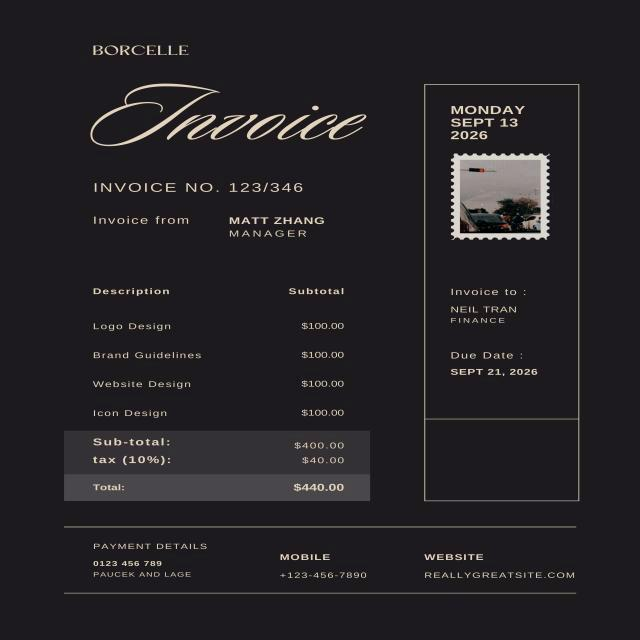paragraph: (90, 77, 368, 151), (81, 435, 359, 502), (447, 281, 553, 381), (88, 207, 328, 240), (89, 533, 226, 590), (419, 551, 580, 587), (275, 549, 371, 586), (449, 98, 534, 139), (90, 178, 318, 193), (88, 39, 193, 57)
table: (87, 282, 355, 421)
